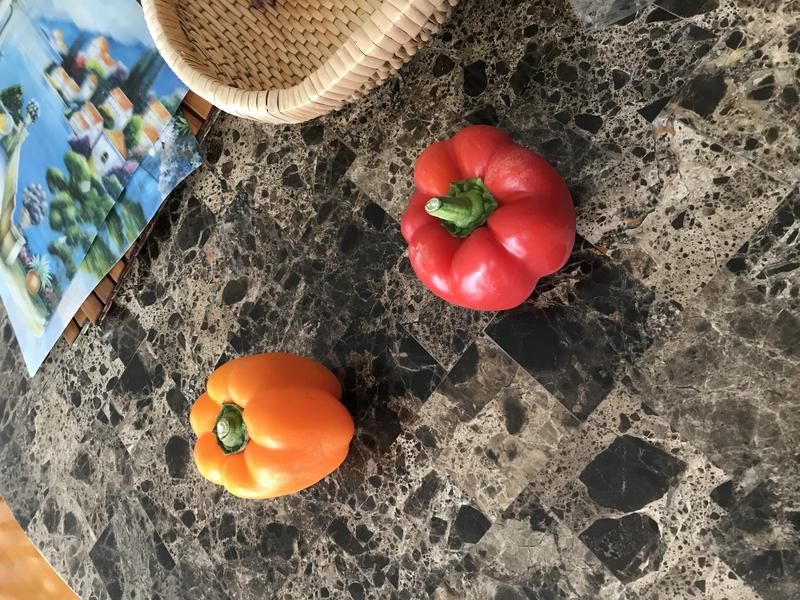orange_pepper: (180, 350, 361, 504)
red_pepper: (392, 121, 584, 323)
